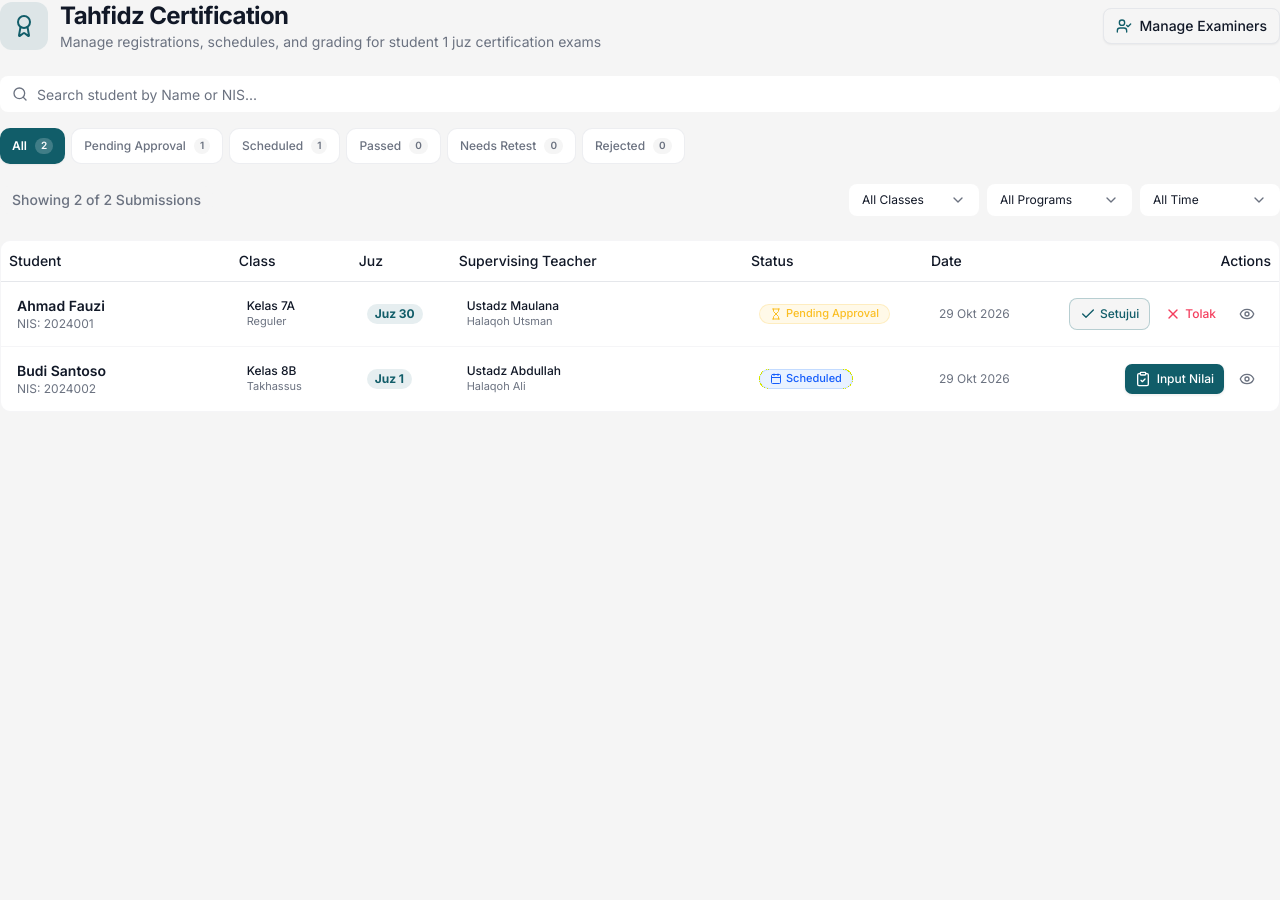
SertifikasiTahfidzPage Integration Test › should open grading dialog when clicking Input Nilai on scheduled item
Click the button with aria-label "Input nilai ujian Budi Santoso" at (1174, 378), box [1124,362,1225,394]
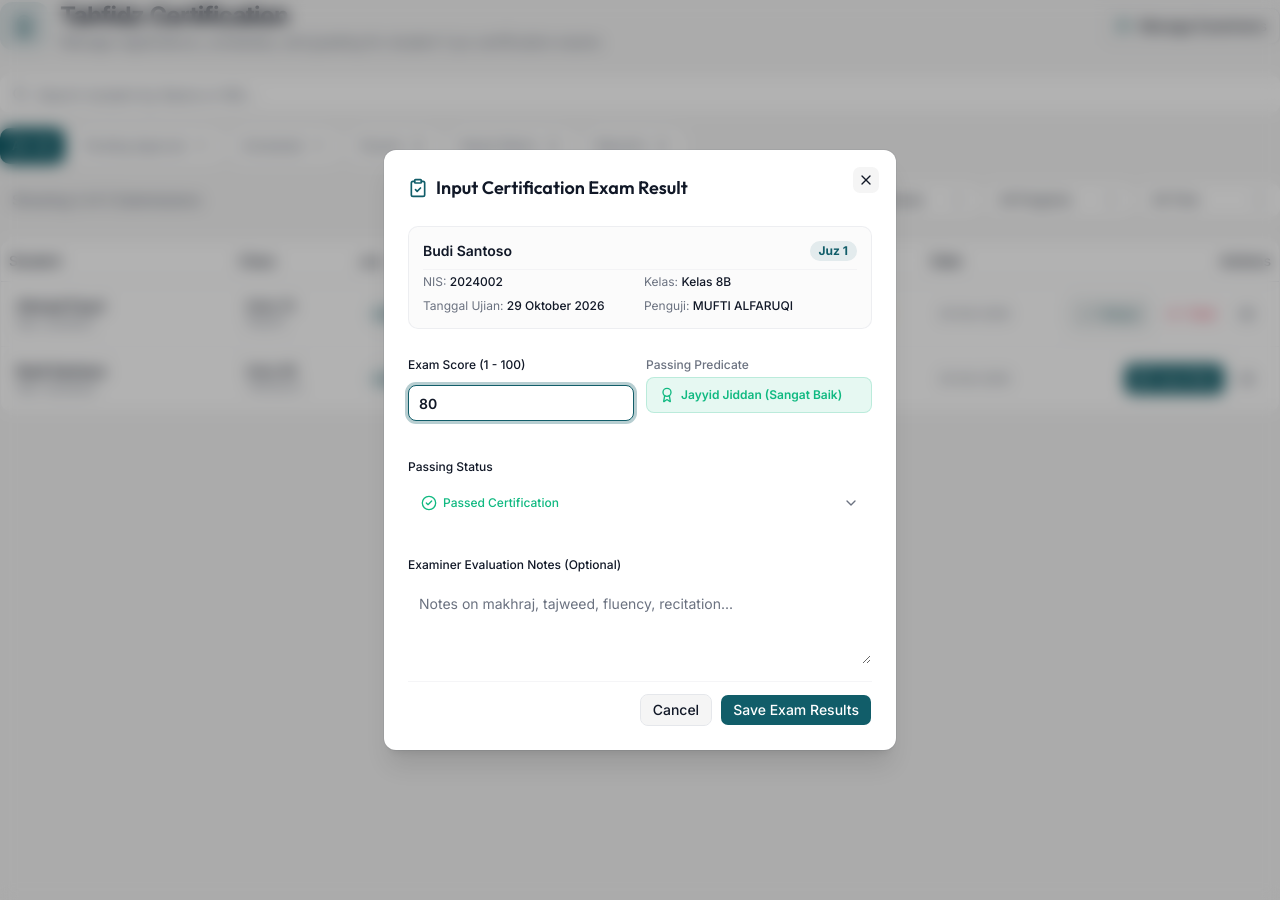
Result: the heading "Input Certification Exam Result" is shown at [408,176,688,199]
